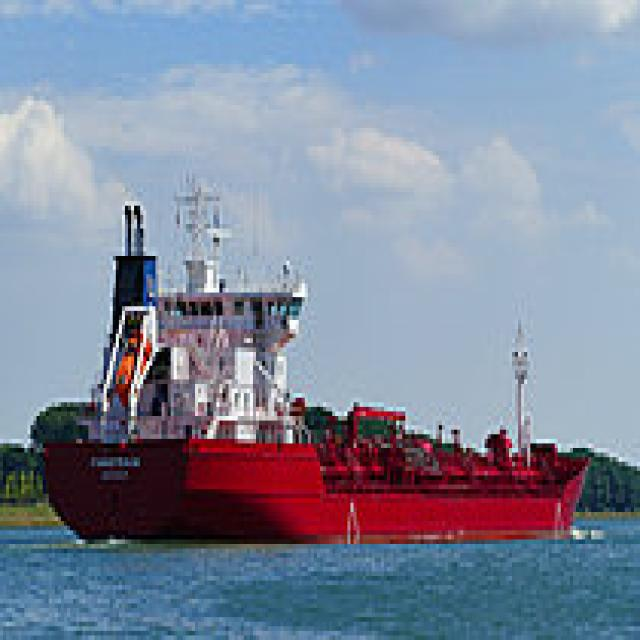Tanker: (33, 165, 594, 544)
